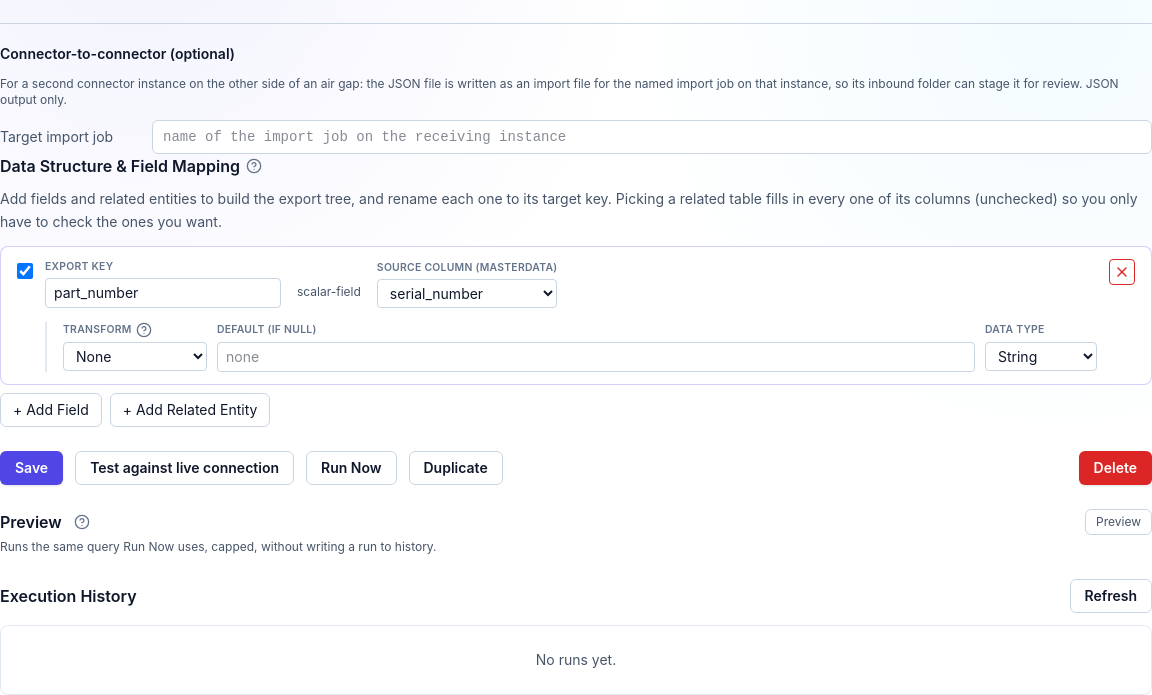
Test: ExportDefinitionEditView › runs a test against the live connection and shows the result
(page scrolled)
Click the button "Test against live connection" at (185, 468), box [75,451,294,485]
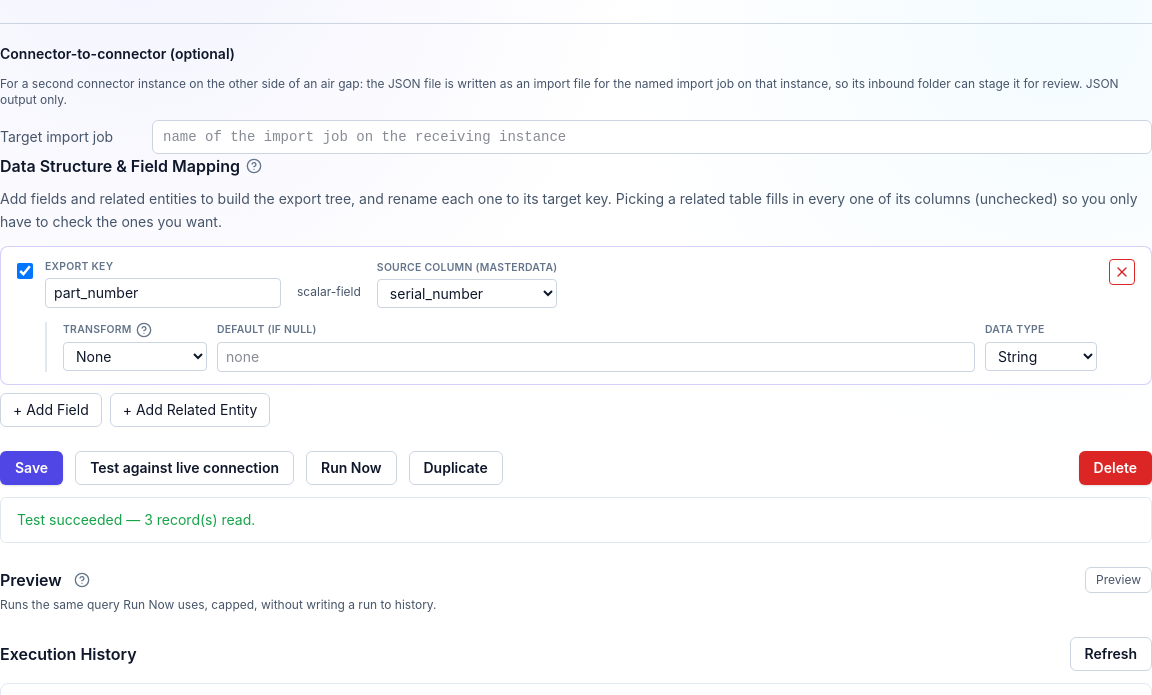
Result: the text "Test succeeded — 3 record(s) read." is shown at [17,511,255,528]
